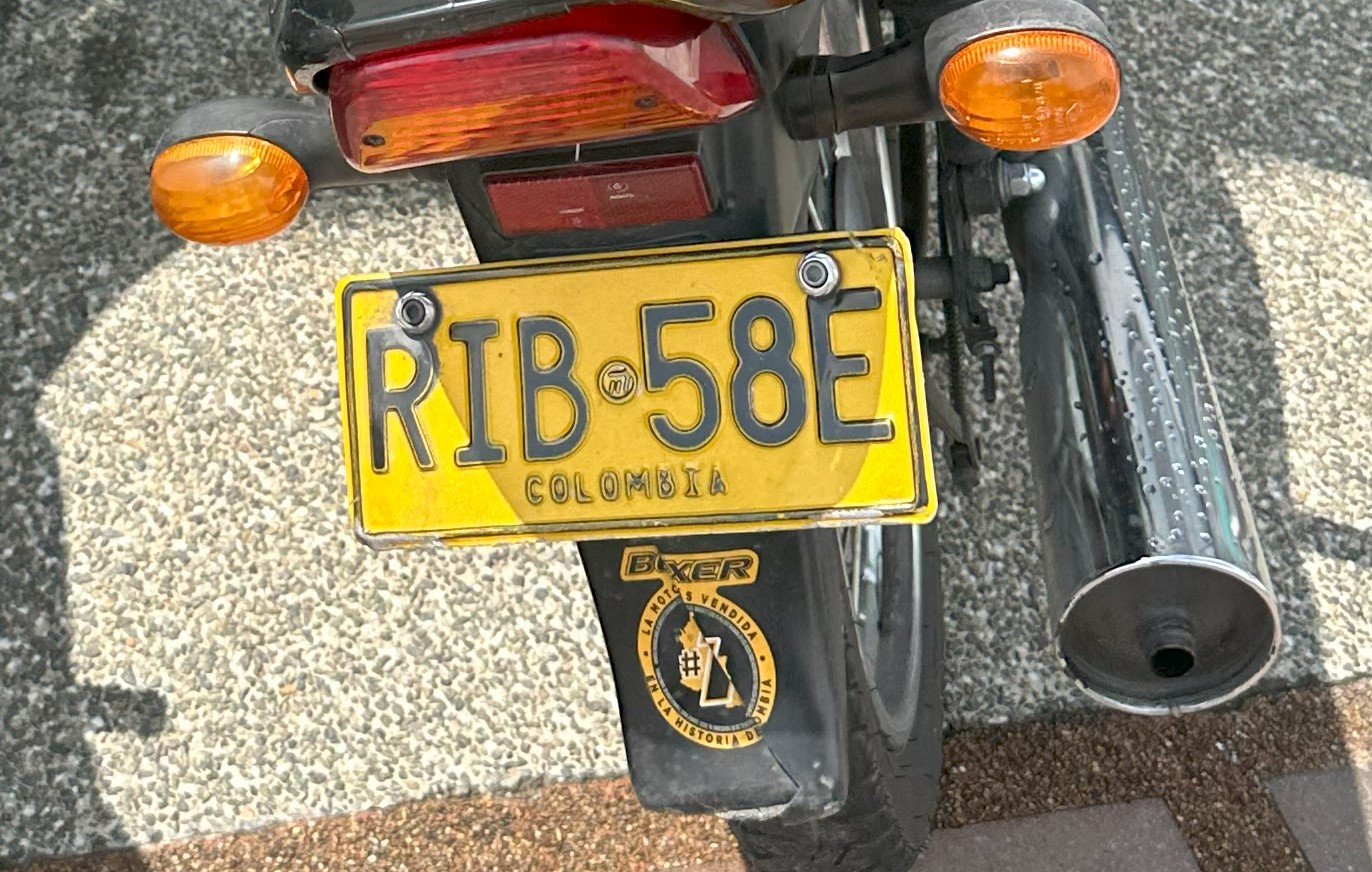number plate: (336, 229, 936, 546), (579, 529, 848, 823)
